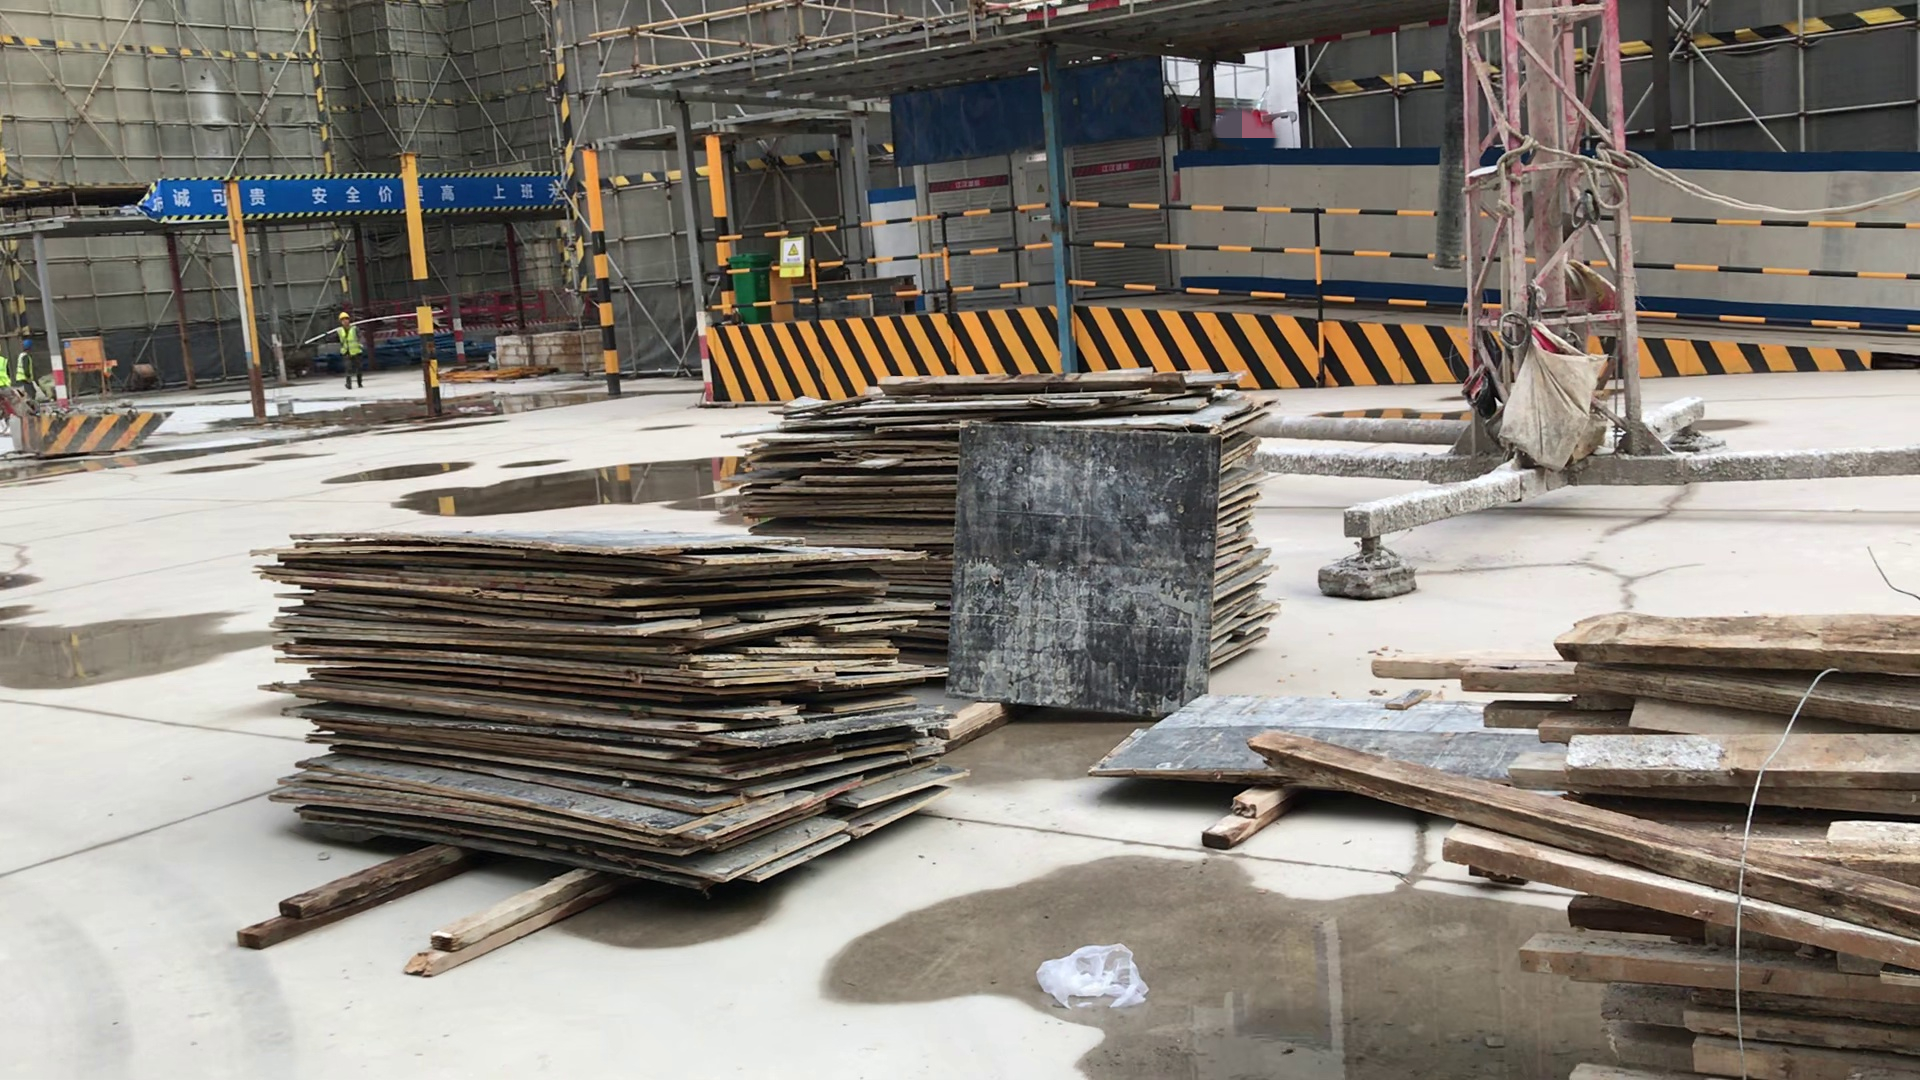board: (252, 509, 977, 904), (714, 371, 1286, 722)
ebox: (61, 336, 110, 402)
fence: (1073, 194, 1436, 311), (1621, 208, 1917, 349), (725, 208, 1051, 298)
helmet: (21, 340, 32, 349), (338, 312, 350, 321)
hopper: (18, 410, 178, 454)
person: (335, 311, 364, 391), (15, 339, 38, 401), (1, 346, 13, 389)
slogan: (245, 178, 403, 211), (420, 173, 560, 210), (169, 175, 224, 211), (465, 291, 516, 328), (779, 239, 804, 279), (527, 290, 548, 324), (951, 176, 980, 190), (1100, 162, 1130, 173)
vest: (338, 326, 362, 355), (17, 353, 33, 382), (1, 356, 11, 388)
wood: (1370, 604, 1918, 1080)
